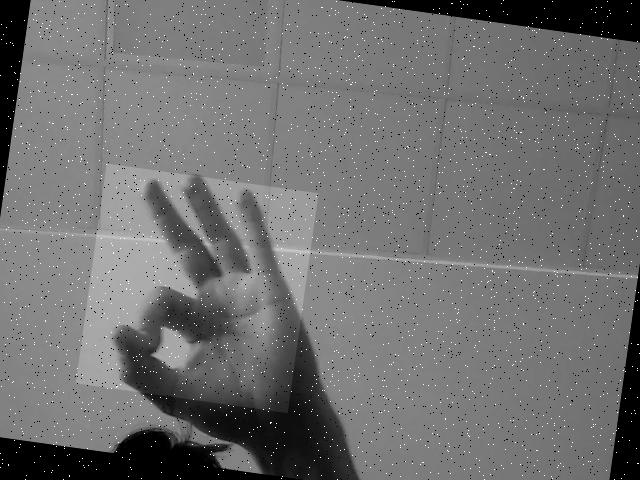OK: (76, 164, 318, 414)
